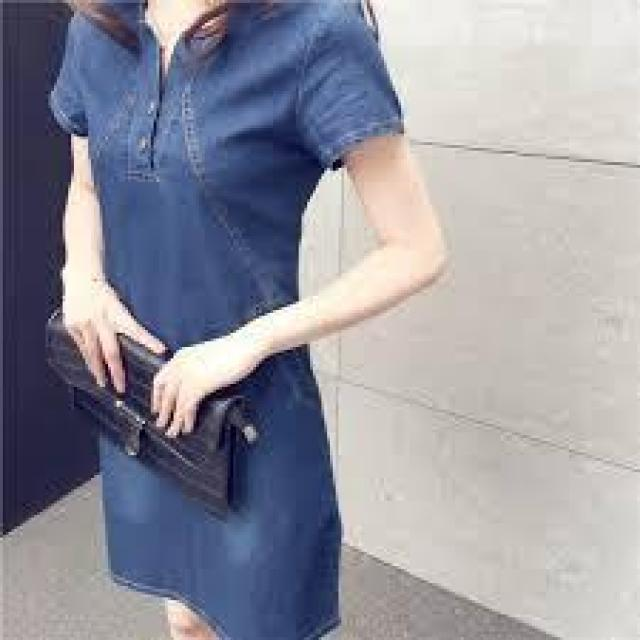dress: (55, 0, 422, 640)
